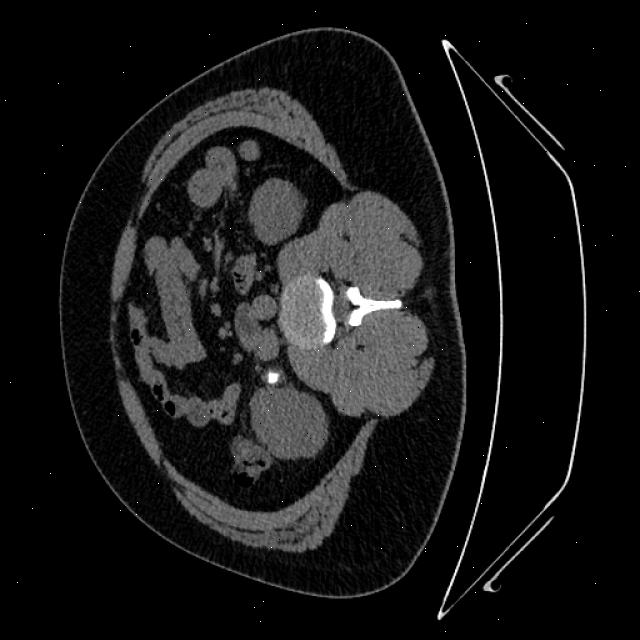kidneystone: (262, 368, 281, 384)
